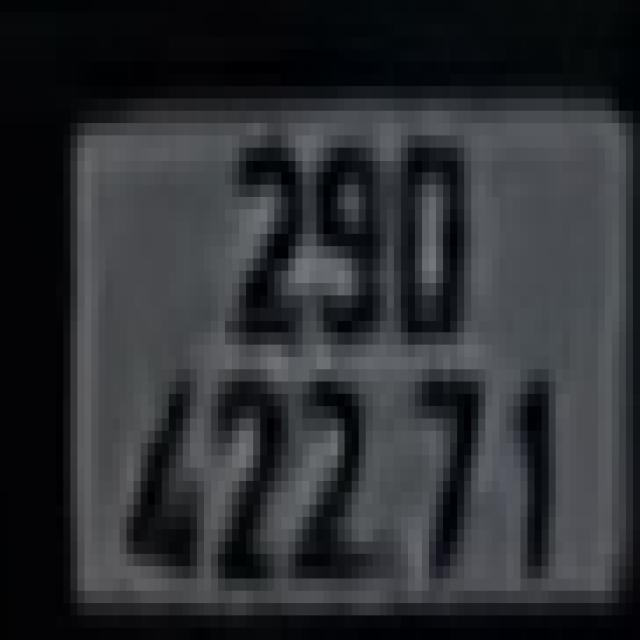1: (506, 370, 563, 578)
2: (218, 136, 309, 344), (295, 370, 380, 578), (211, 370, 281, 578)
4: (127, 370, 204, 578)
7: (408, 370, 485, 578)
9: (316, 136, 380, 344)
D: (394, 136, 471, 344)
